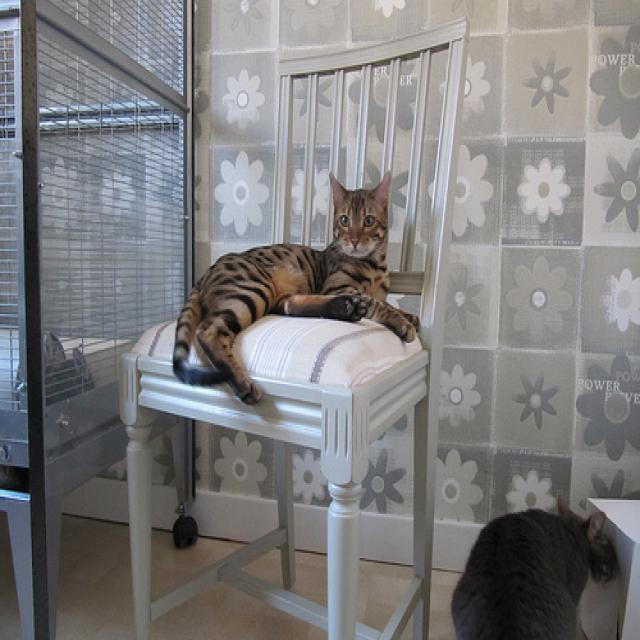Bengal: (320, 170, 397, 266)
